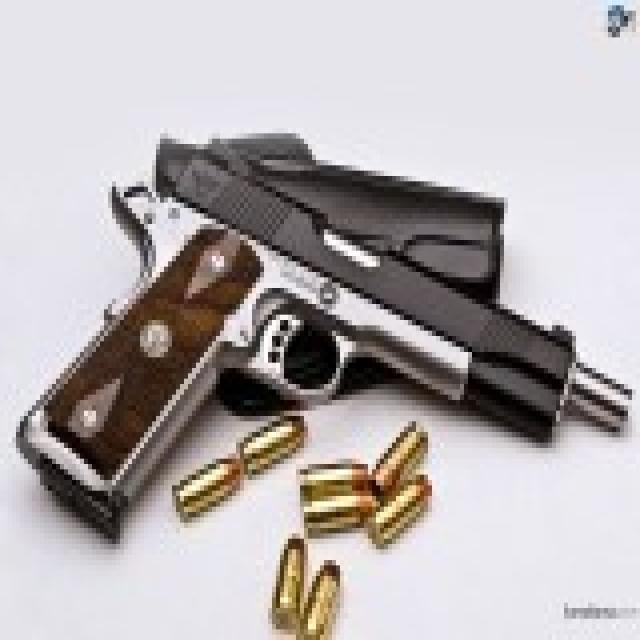Gun: (12, 107, 640, 581)
